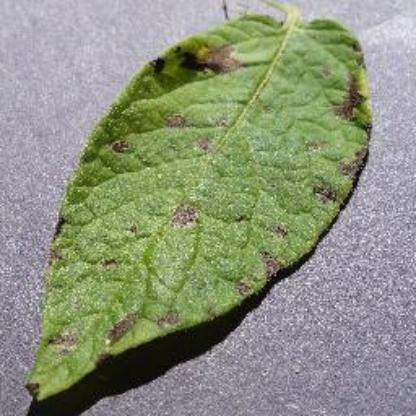Early-Blight: (27, 9, 379, 404)
